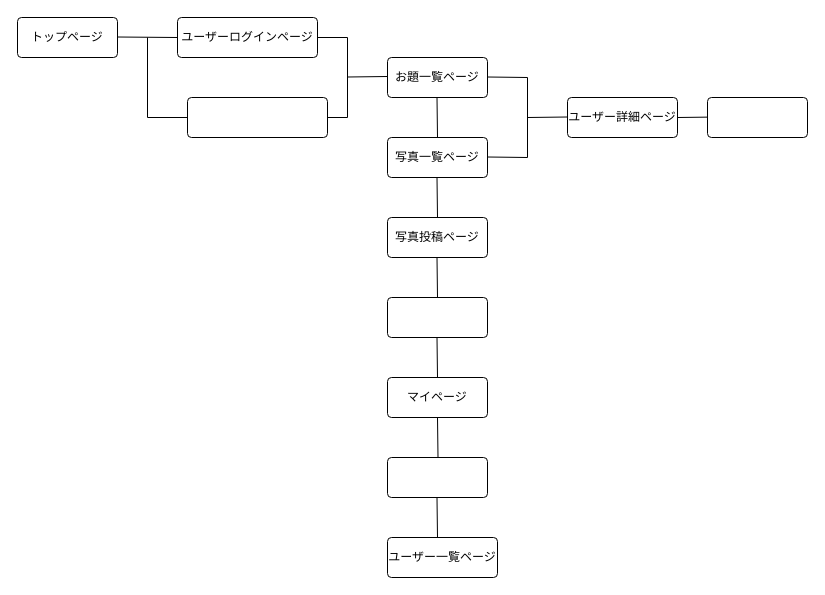
Some shapes in this 825 by 595 pixel diagram are drawn without their labels. The shapes that lost their labels are listed below. From the top down, each one's box as (x1, y1, x2, y2) in pixels, then its label:
(186, 96, 328, 138): ユーザー新規登録ページ
(706, 96, 808, 138): ユーザー投稿一覧
(386, 296, 488, 338): お題投稿ページ
(386, 456, 488, 498): ランキングページ
